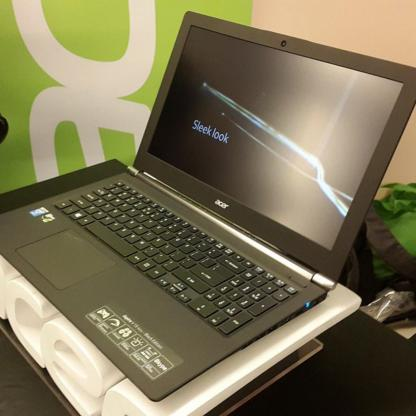board: (0, 7, 414, 402)
